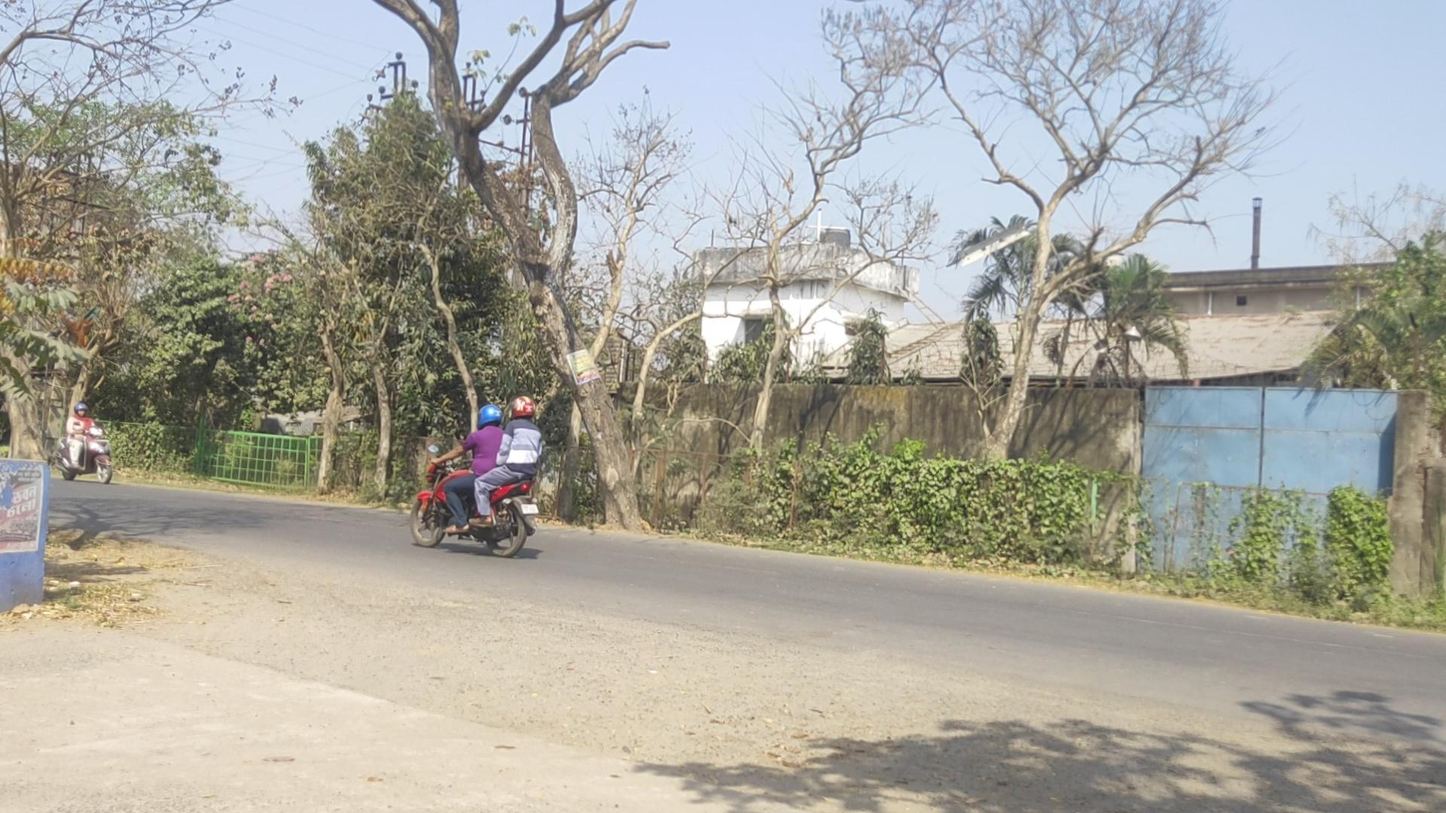bike: (410, 396, 543, 558), (54, 401, 114, 484)
